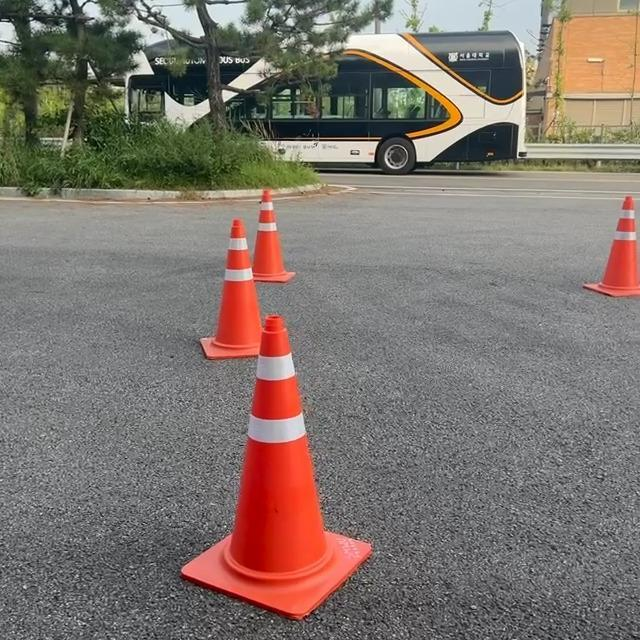fallen_object: (229, 299, 355, 616), (189, 216, 288, 349), (580, 165, 640, 327), (237, 183, 307, 291)
